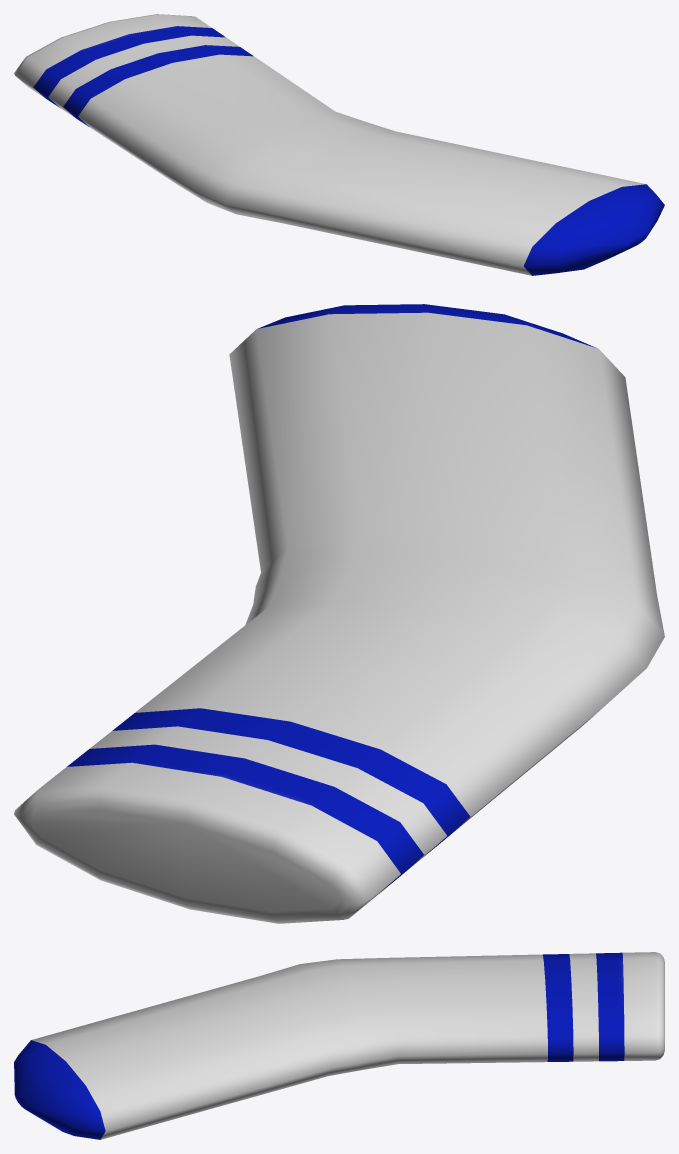
Rendered from sock w_ uv.fbx.
3 views of the same model, one above another, from view 1: azimuth 30°, elevation 25°; view 2: azimuth 150°, elevation 25°; view 3: azimuth 270°, elevation 25° (orthographic). The views are drawn at different scales.
Parts seen in each view (by area): view 1: Object.002; view 2: Object.002; view 3: Object.002.
Part boxes in pixels (<box>): Object.002: <box>14,14,664,275</box>; Object.002: <box>14,304,664,923</box>; Object.002: <box>14,952,664,1139</box>.
Size of the model in its own units: 91.93 by 14.74 by 148.
2 materials, 1 textured.
